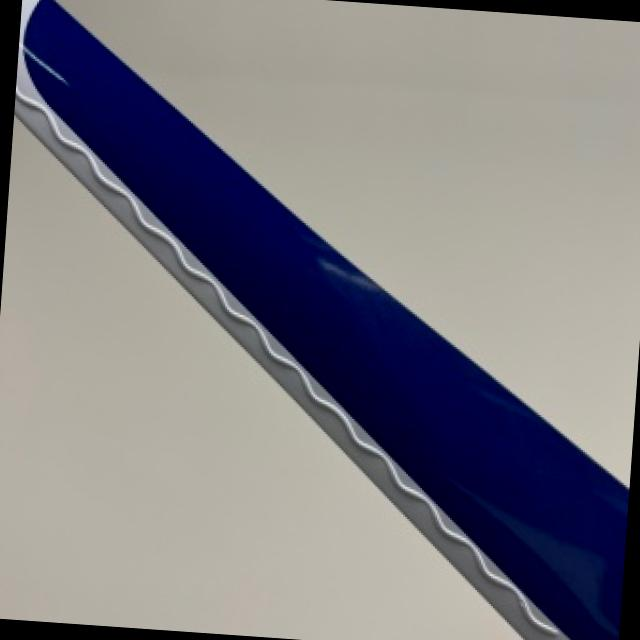healthy: (0, 117, 518, 640)
